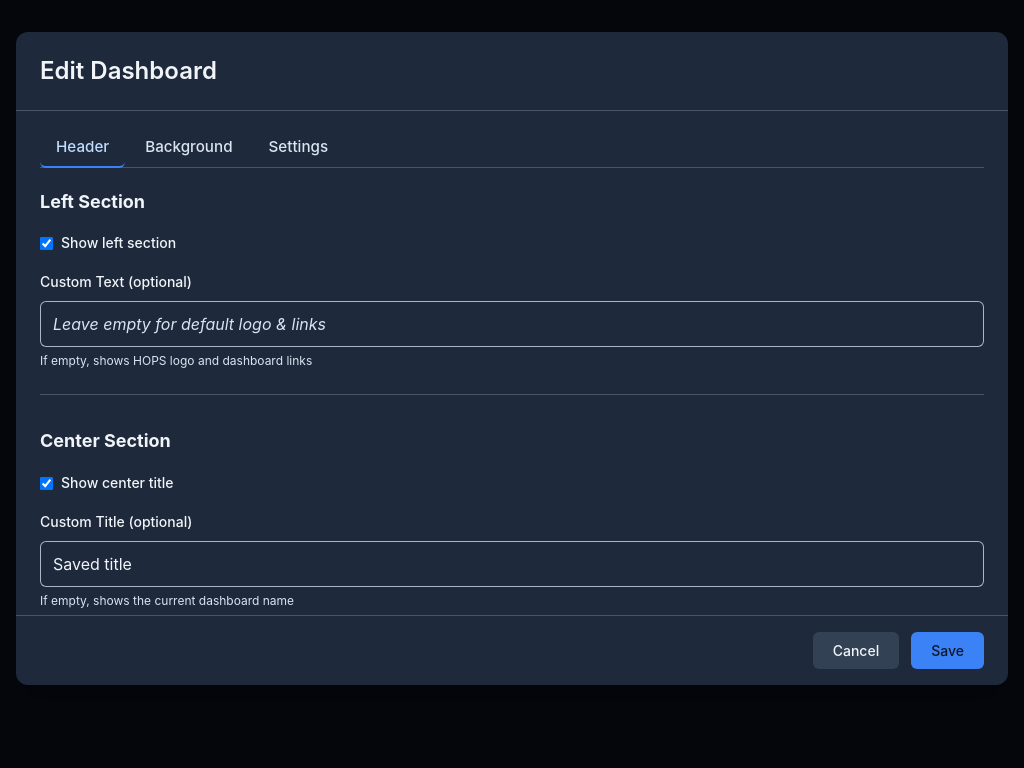
it: DashboardEditModal: one dialog, one Save, one Cancel › a background that cannot be saved stops the Save before anything is written
The width and height of the screenshot is (1024, 768).
Click the tab "Settings": (298, 148) top-left (252, 127), bottom-right (344, 168)
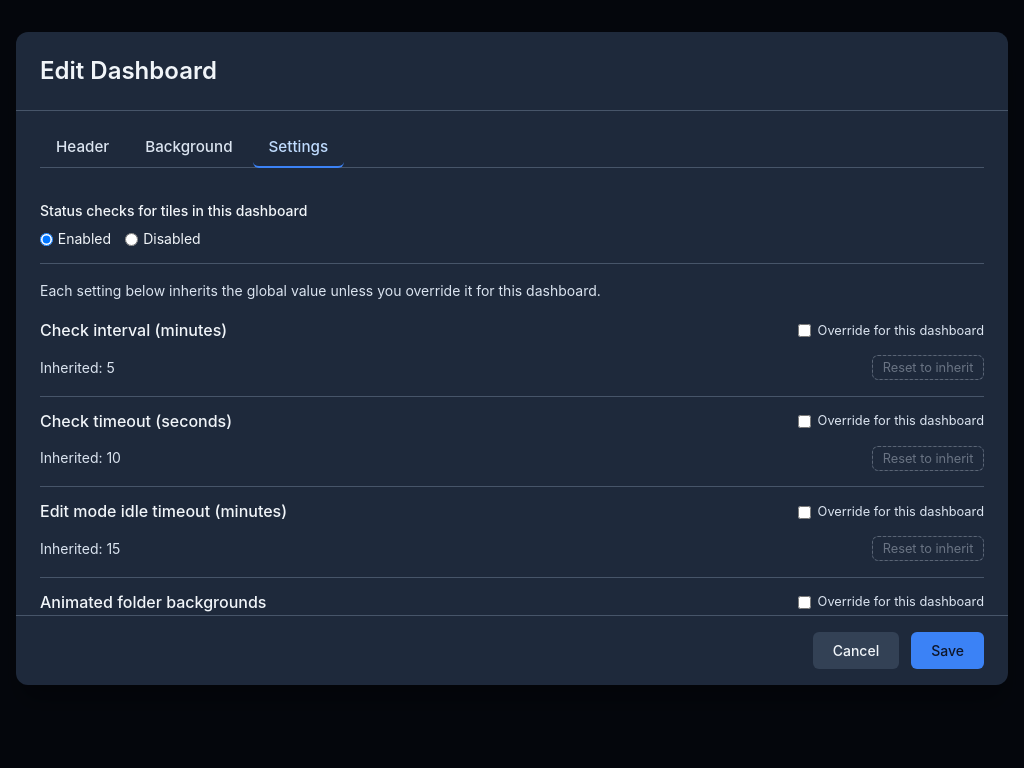
Click the checkbox named "Override for this dashboard: Edit mode idle timeout (minutes)": (805, 512) top-left (798, 506), bottom-right (811, 519)
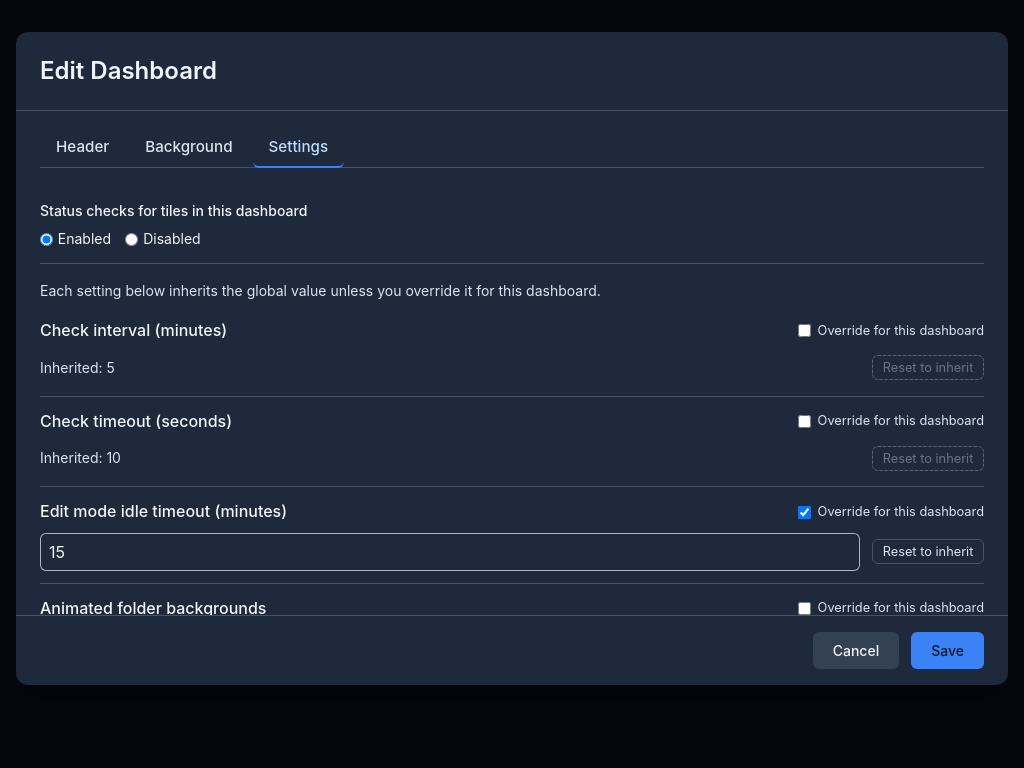
Click the tab "Background": (189, 148) top-left (129, 127), bottom-right (248, 168)
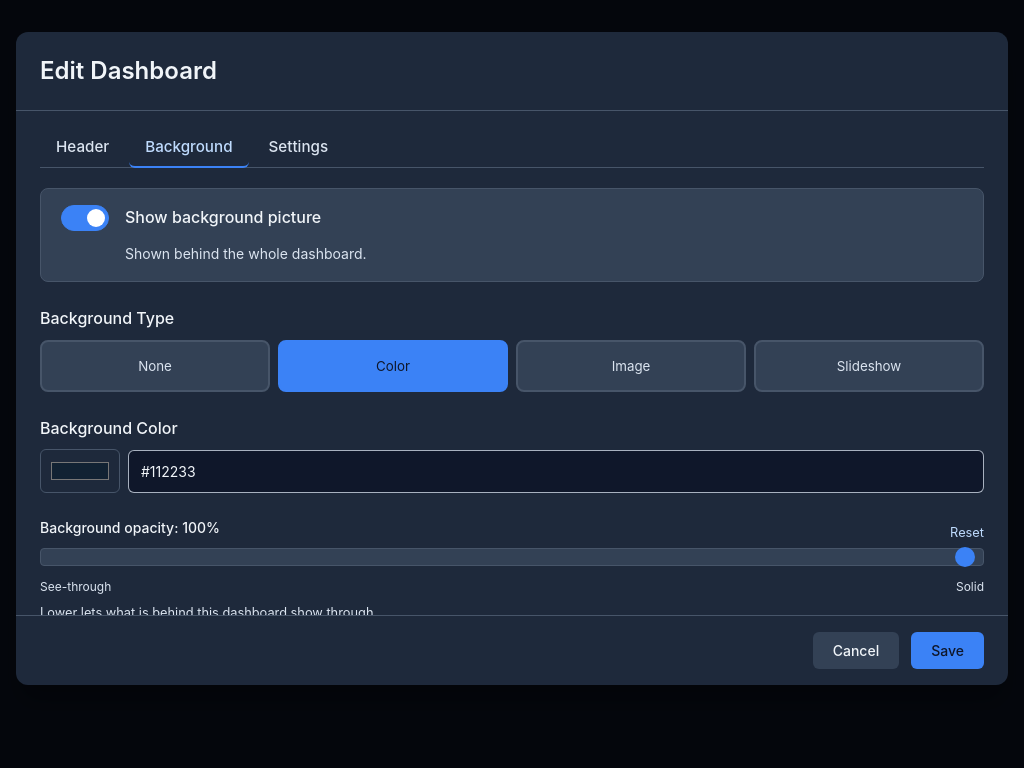
Click the button "Image": (631, 366) top-left (516, 340), bottom-right (746, 392)
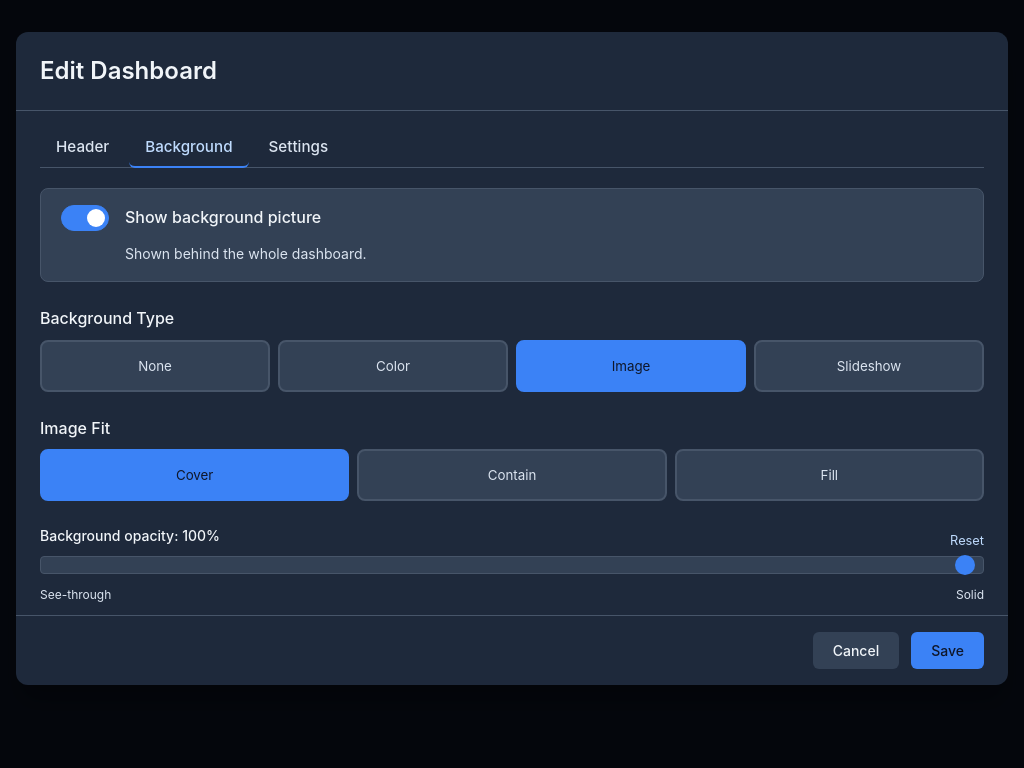
Click the tab "Header": (83, 148) top-left (40, 127), bottom-right (125, 168)
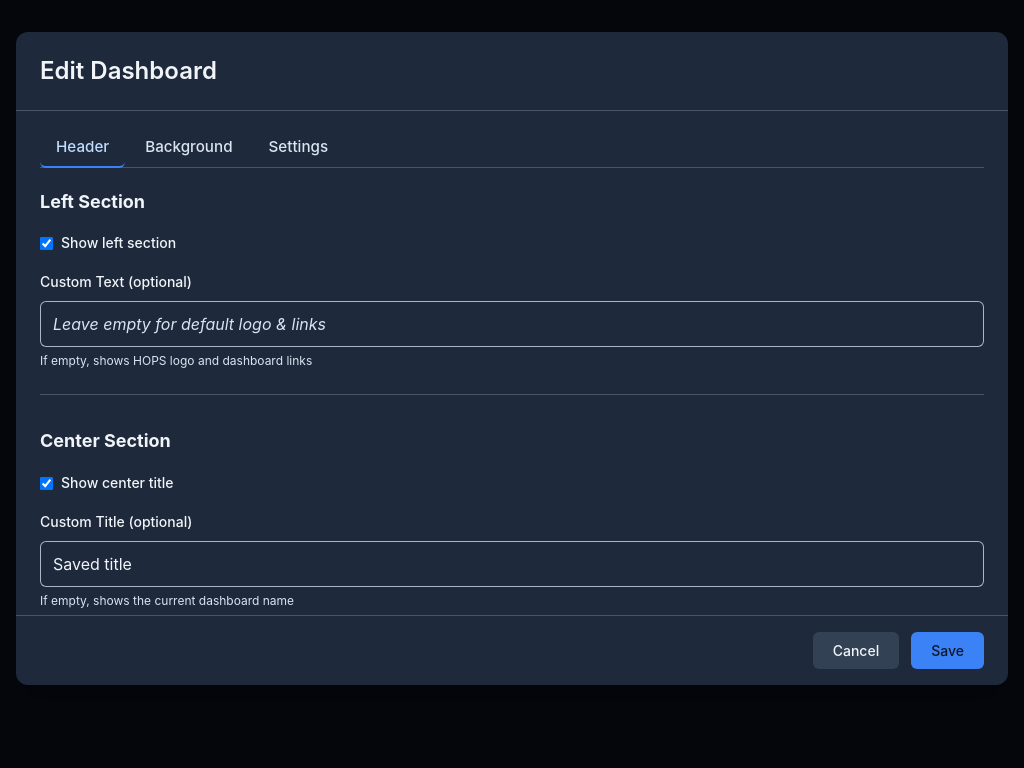
Click the button "Save": (948, 650) top-left (911, 632), bottom-right (984, 669)
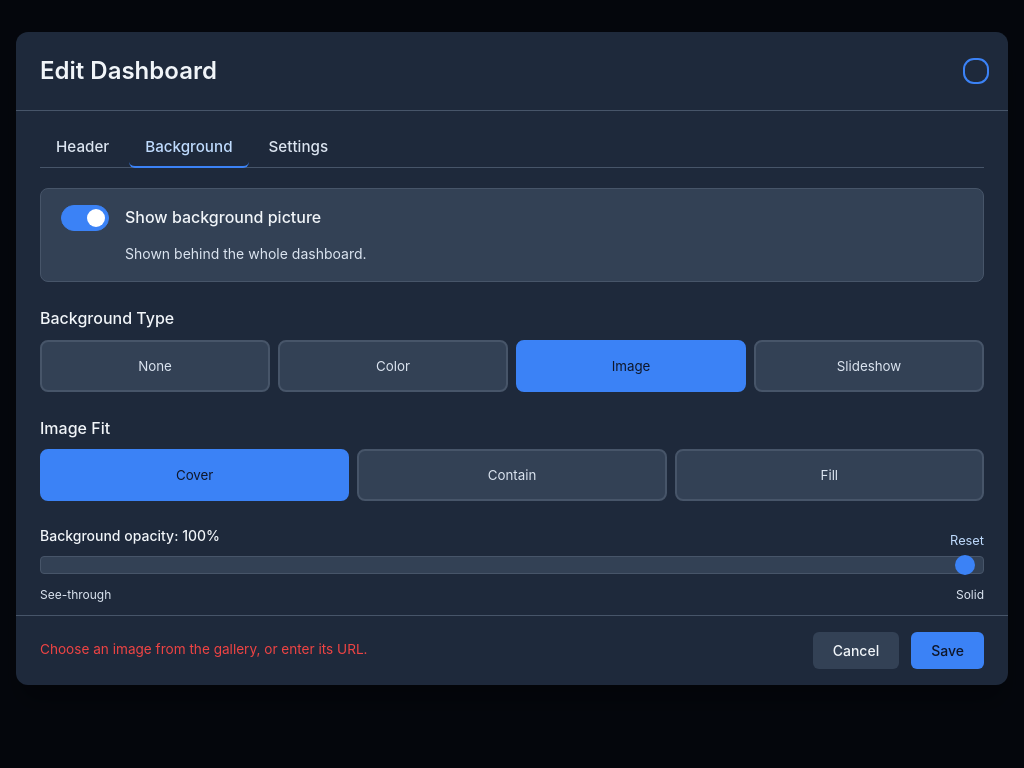
Expected: the message shows "Choose an image", top-left (40, 641), bottom-right (368, 657)
